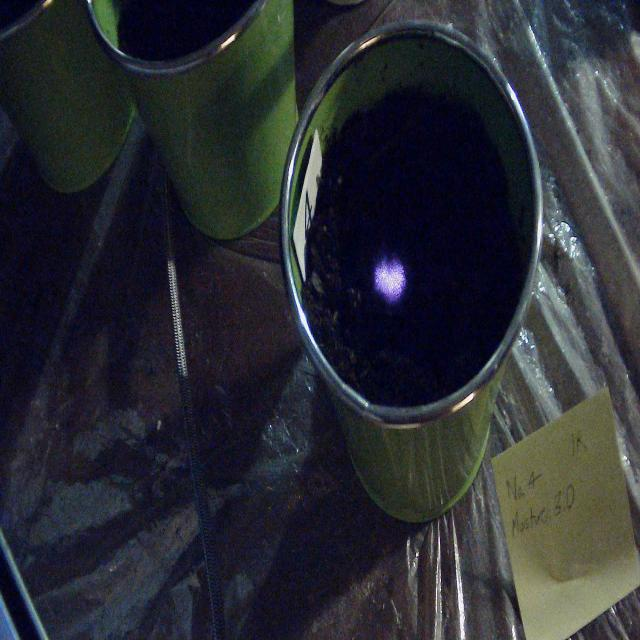soil-moisture-3.0: (374, 255, 406, 303)
